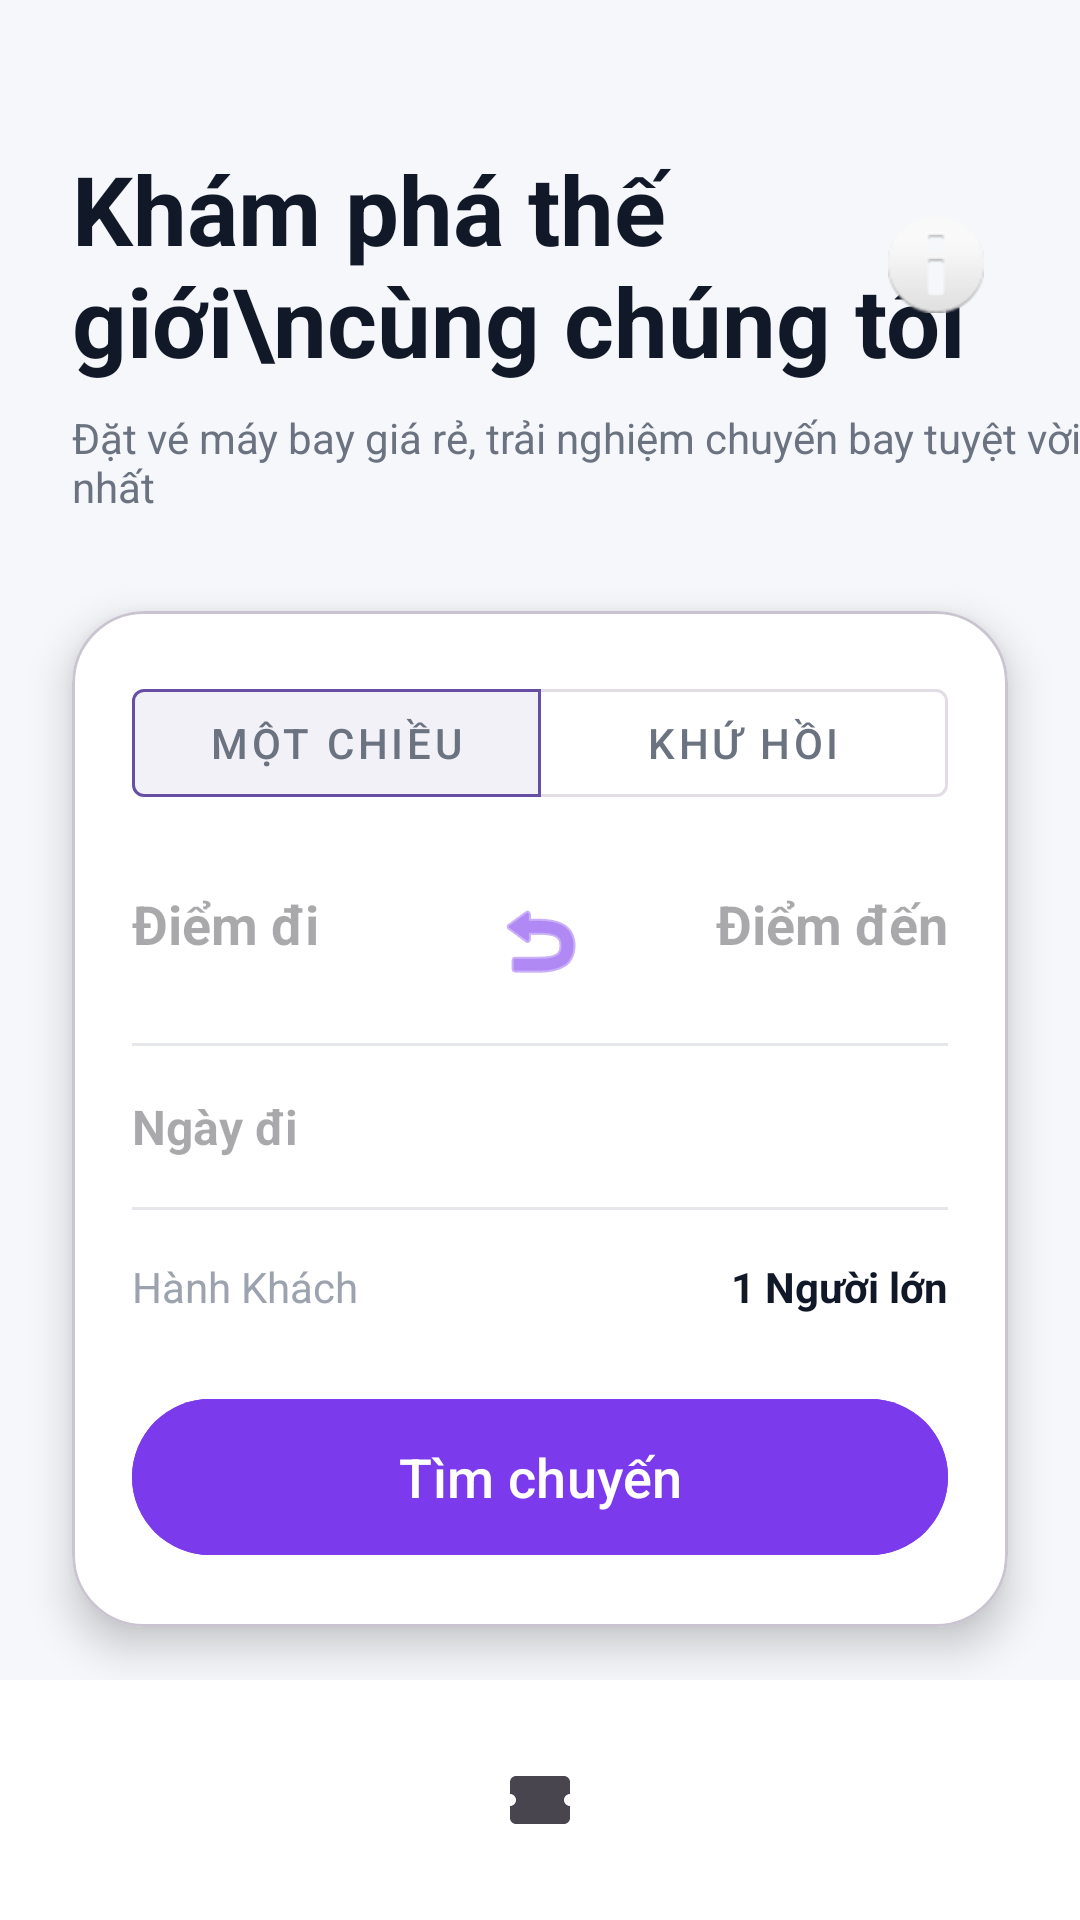

Named icons in this screenshot (1080px x 1920px) and their bounding boxes, (x1, y1, x2, y2):
revert: (507, 910, 576, 973)
